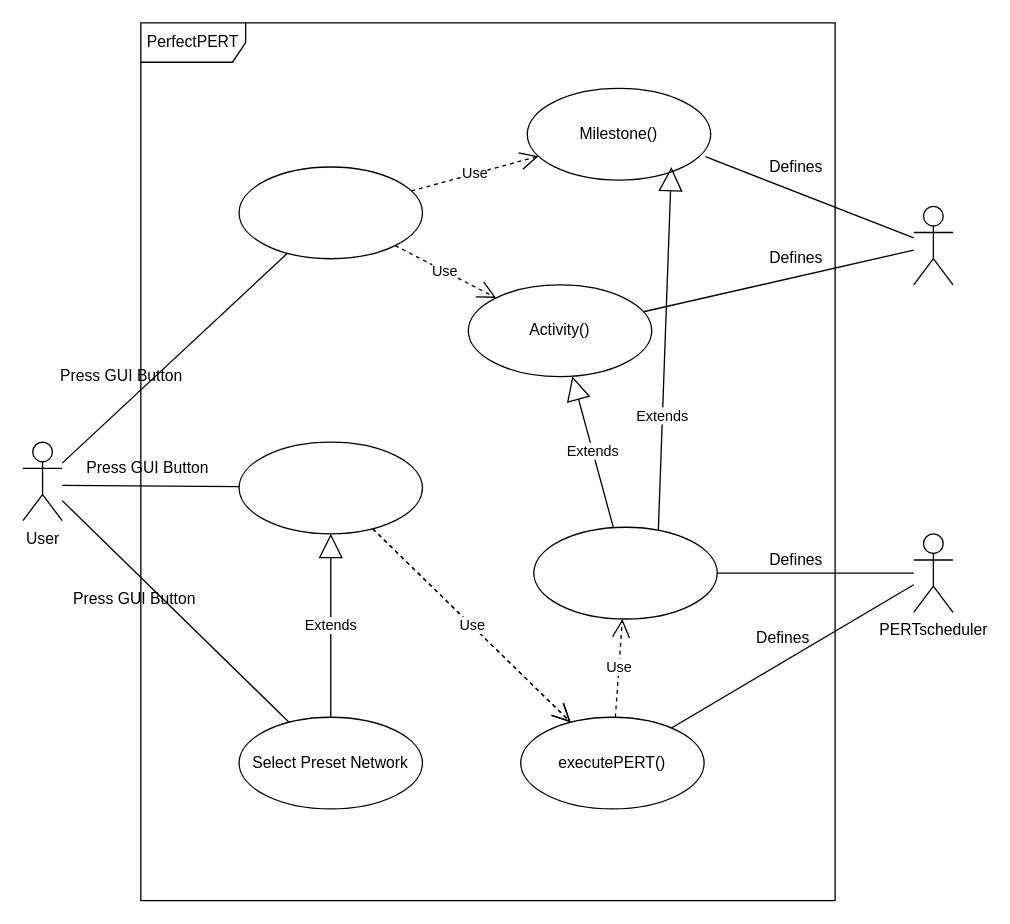
The diagram is 1010 pixels wide and 924 high, and some of its shapes have lost their labels. The centre of each missing label's shape, as x and y in pixels:
Add Activity: (x=330, y=212)
Evaluate PERT: (x=330, y=487)
load_problem(): (x=625, y=572)
PERTmodels: (x=932, y=245)
